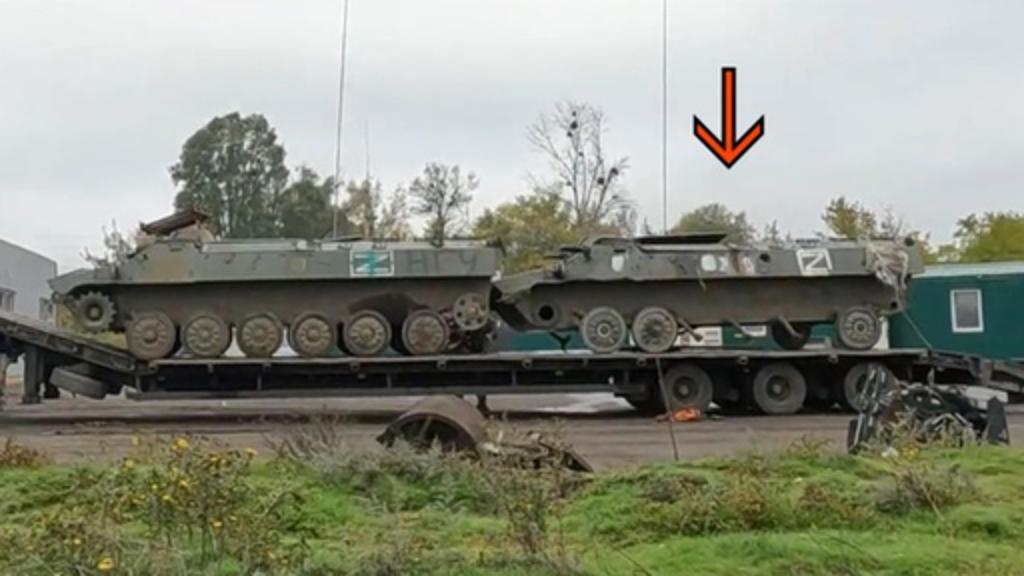APC-IFV: (48, 198, 494, 362), (494, 198, 918, 354)
